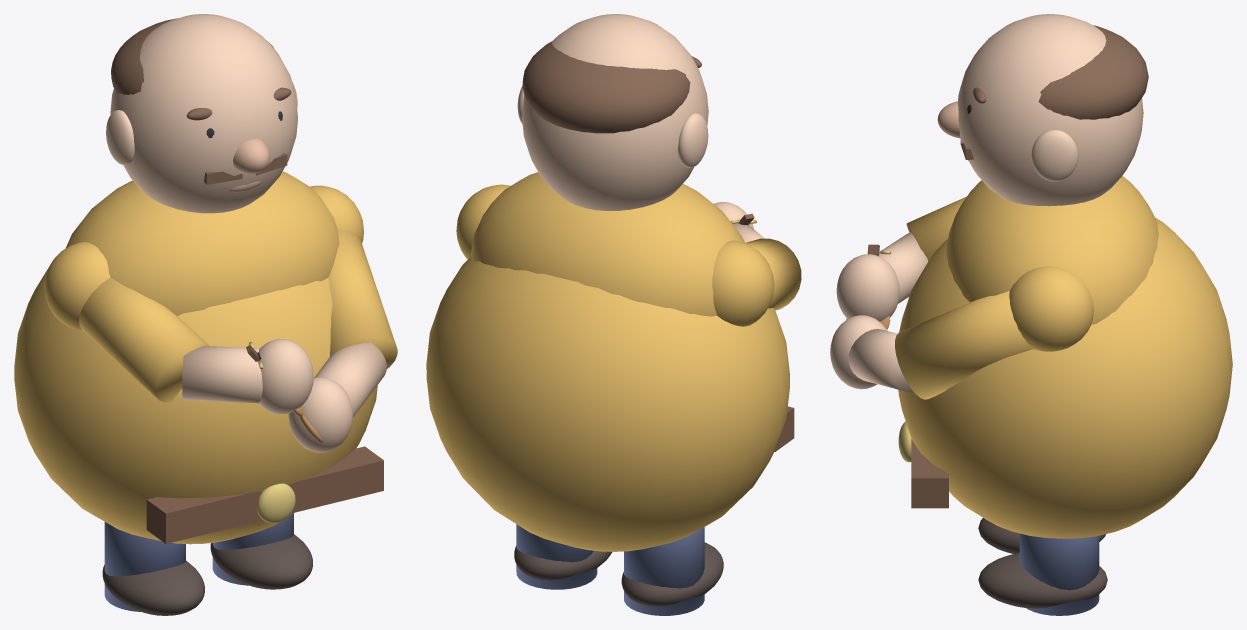
Rendered from fat_guy.glb.
3 renders of one model, left to right at view 1: azimuth 30°, elevation 25°; view 2: azimuth 150°, elevation 25°; view 3: azimuth 270°, elevation 25°, orthographic. The views are drawn at different scales.
Parts seen in each view (by area): view 1: Belly.001; view 2: Belly.001; view 3: Belly.001.
Part boxes in pixels (x1=…): Belly.001: x1=14, y1=14, x2=397, y2=615; Belly.001: x1=426, y1=14, x2=801, y2=615; Belly.001: x1=830, y1=14, x2=1232, y2=615.
Bounding box in the file's own units: 1.56 × 2.6 × 1.71.
